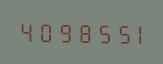eight: (71, 19, 88, 44)
five: (89, 20, 106, 44), (107, 20, 124, 44)
four: (17, 18, 34, 43)
nine: (53, 19, 70, 43)
one: (125, 20, 142, 45)
zero: (35, 19, 52, 43)
